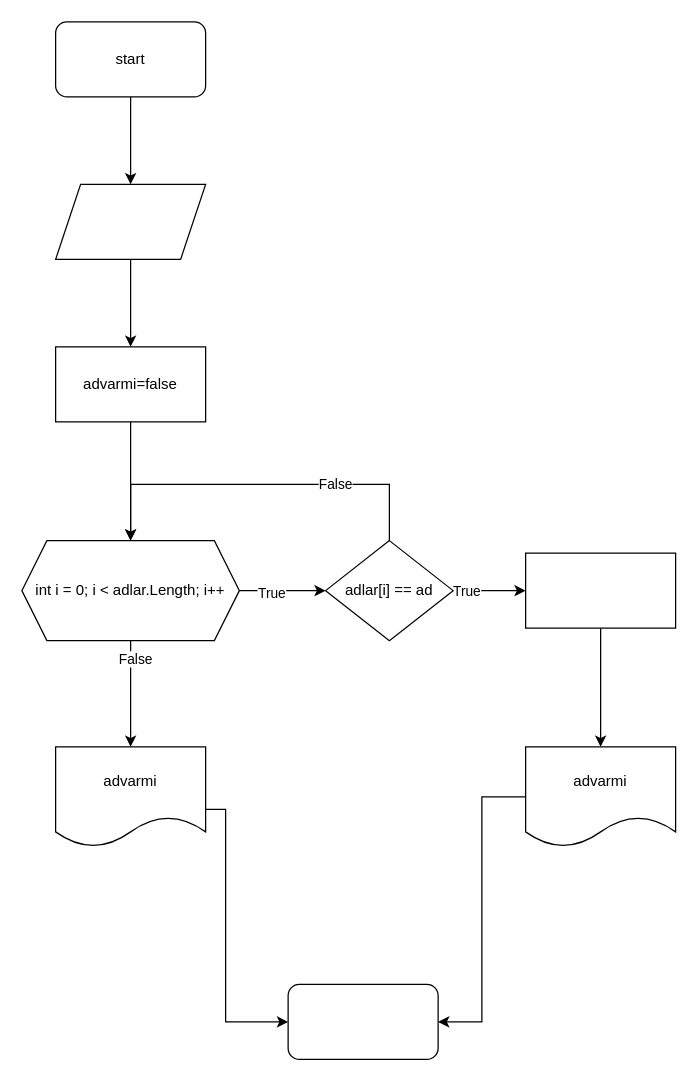
The diagram is 698 pixels wide and 1081 high, and some of its shapes have lost their labels. The shapes that lost their labels are listed below. From the top down, each one's centre as x and y in pixels, then its label:
At pixel 130 221: "adlar[] ad".
At pixel 600 590: "advarmi = true break".
At pixel 362 1021: "end".
